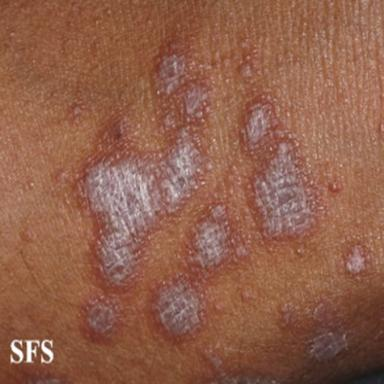lichen: (78, 20, 215, 285), (238, 89, 321, 244), (181, 203, 250, 278), (153, 275, 205, 337), (83, 297, 119, 337), (311, 332, 348, 362), (346, 245, 366, 274), (313, 301, 334, 325), (279, 303, 297, 328), (239, 52, 253, 80), (327, 177, 342, 195)
